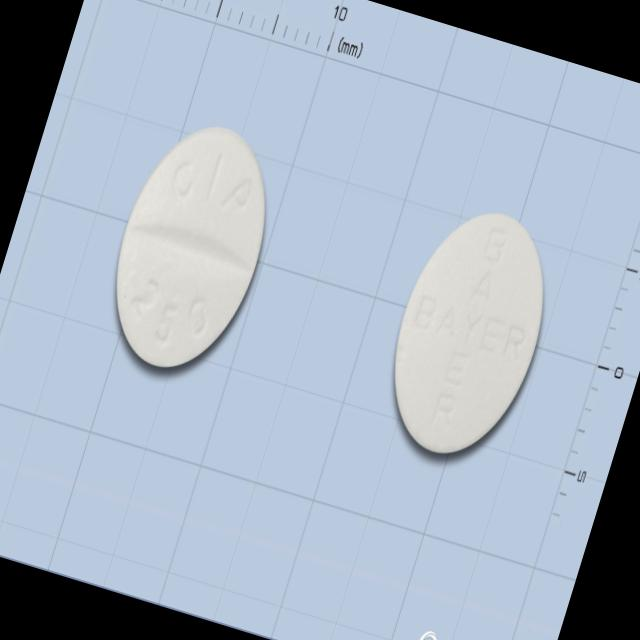Ciprobay: (358, 188, 577, 485), (81, 103, 302, 395)
